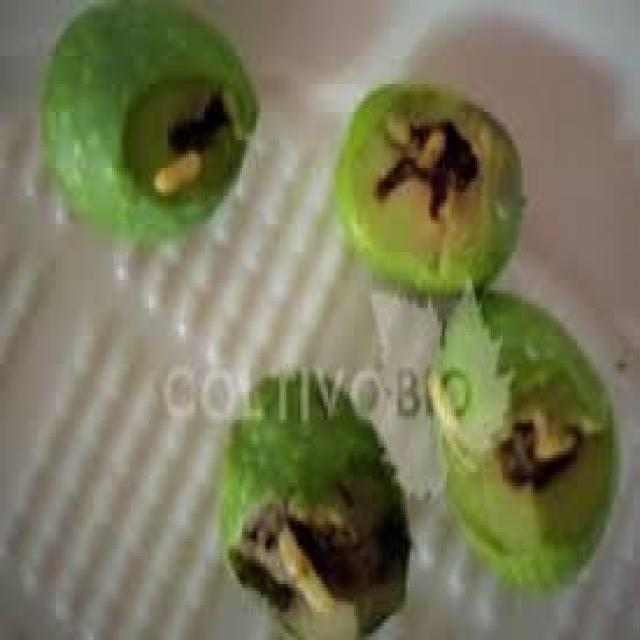Olive Fruit Fly: (428, 304, 614, 584), (42, 0, 256, 241), (221, 378, 410, 637), (335, 84, 524, 325)
